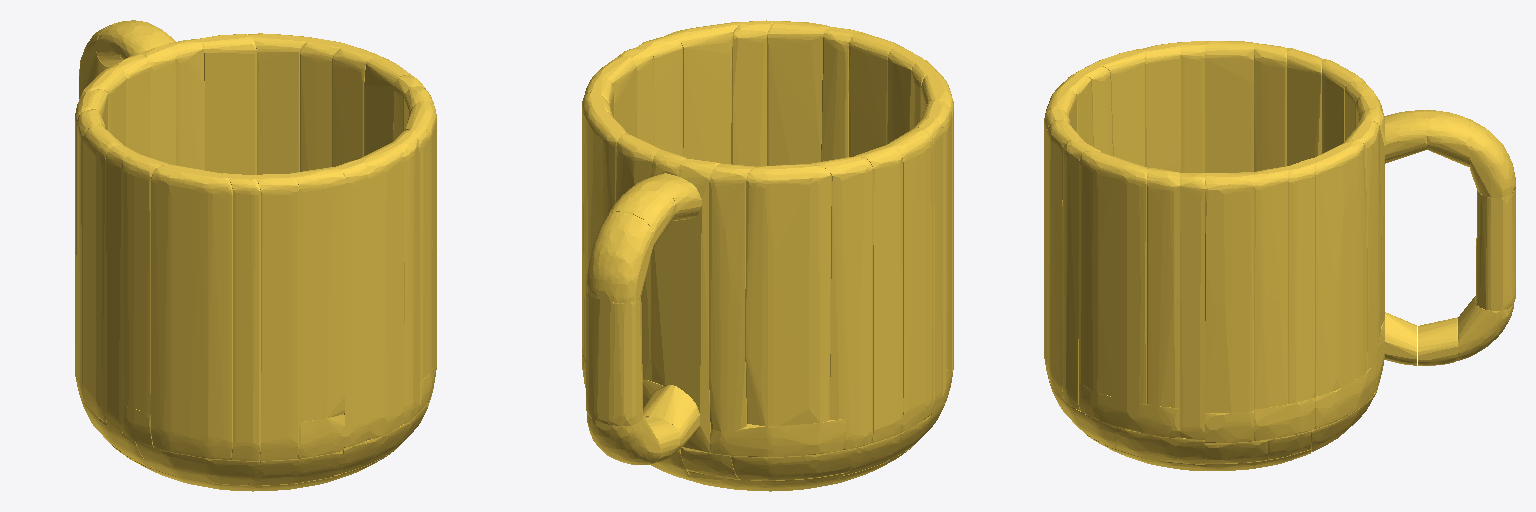
robot.urdf — 931.urdf:
<?xml version="1.0" ?>
<robot name="931.urdf">
	<link name="baseLink">
		<inertial>
			<origin rpy="0 0 0" xyz="0 0 0"/>
				<mass value="0.1"/>
				<inertia ixx="6e-5" ixy="0" ixz="0" iyy="6e-5" iyz="0" izz="6e-5"/>
		</inertial>
		<visual>
			<origin rpy="0 0 0" xyz="0 0 0"/>
			<geometry>
				<mesh filename="41_decom_wt.obj" scale="1.01 1.01 0.92"/>
			</geometry>
			<material name="yellow">
				<color rgba="0.98 0.84 0.35 1"/>
			</material>
		</visual>
		<collision>
			<origin rpy="0 0 0" xyz="0 0 0"/>
			<geometry>
				<mesh filename="41_decom_wt.obj" scale="1.01 1.01 0.92"/>
			</geometry>
		</collision>
	</link>
</robot>

--- What the picture shows (computed from the rendered views, not written in the file) ---
The picture shows the robot from 3 angles, left to right: view 1: azimuth 30°, elevation 25°; view 2: azimuth 150°, elevation 25°; view 3: azimuth 270°, elevation 25°; orthographic projection.
Robot: 931.urdf — 1 links, 0 joints (none); root link baseLink; default pose: all joints at 0.
Links seen in each view (by area): view 1: baseLink; view 2: baseLink; view 3: baseLink.
Boxes of the visible links, box(x1,y1,x2,y2) form: baseLink: box(75, 20, 436, 491); baseLink: box(582, 20, 953, 491); baseLink: box(1044, 41, 1515, 470).
Size in the robot's own frame: 0.0888 by 0.123 by 0.092 metres.
Meshes: 1 distinct files referenced, 1 mesh visuals loaded (1 OBJ).